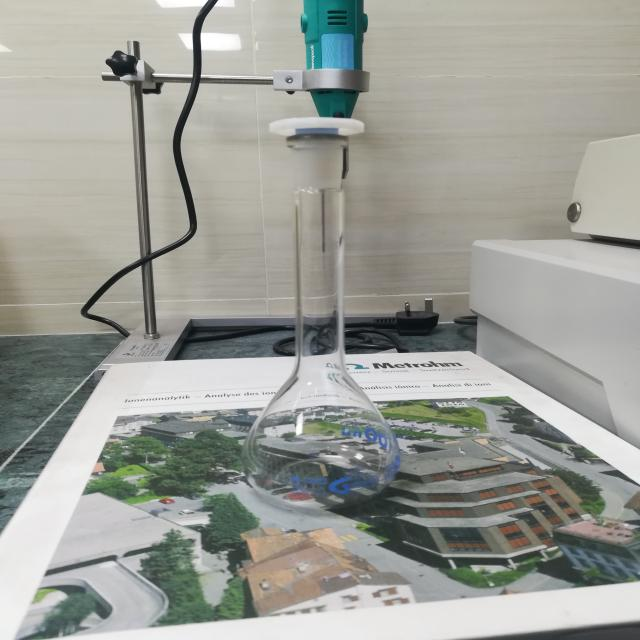Volumetric_Flask: (218, 92, 442, 537)
